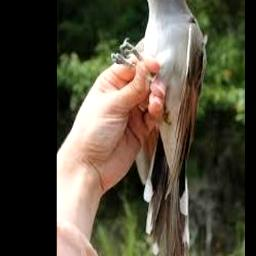Cuckoo: (114, 0, 207, 256)
